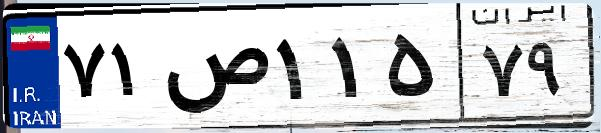1: (270, 28, 330, 110), (330, 28, 385, 110), (110, 28, 158, 98)
5: (385, 28, 445, 110)
7: (57, 26, 110, 100), (475, 38, 525, 113)
9: (525, 38, 570, 115)
ص: (158, 20, 270, 120)
